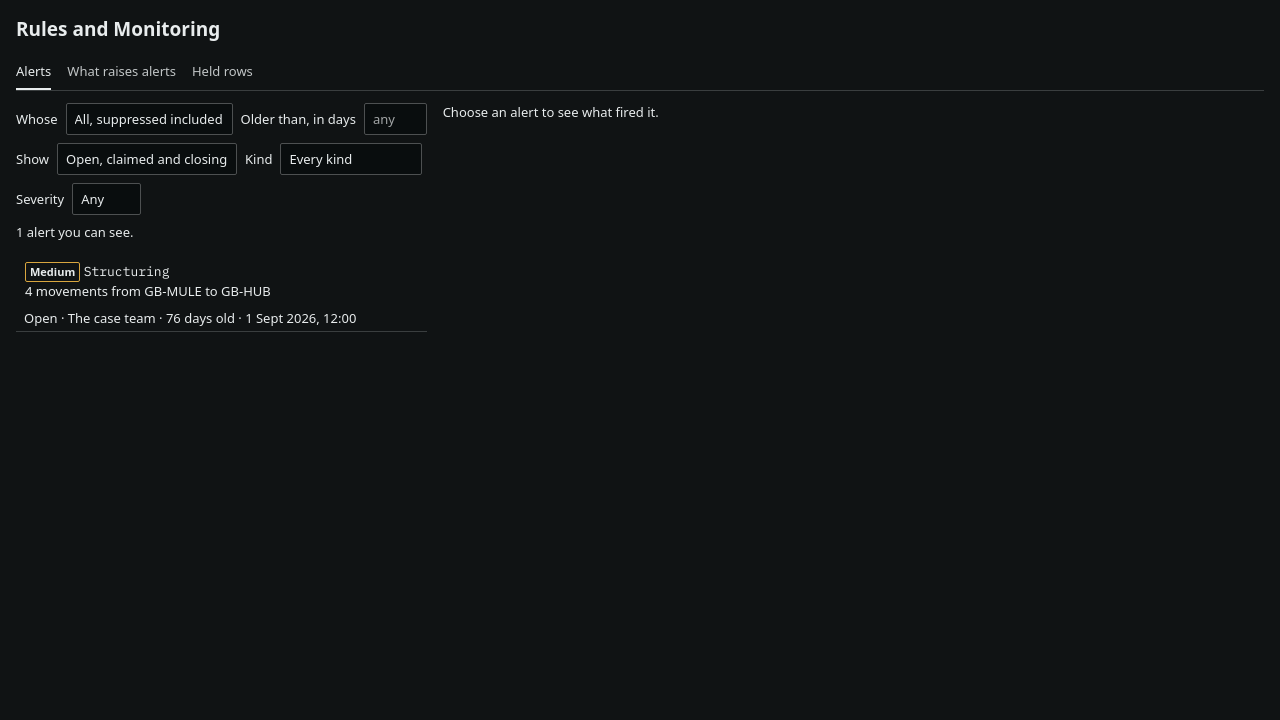
the Alerts place › says in words when someone else got to the alert first
The width and height of the screenshot is (1280, 720).
Click the button named "Open alert" at (221, 281), box [16,253,427,309]
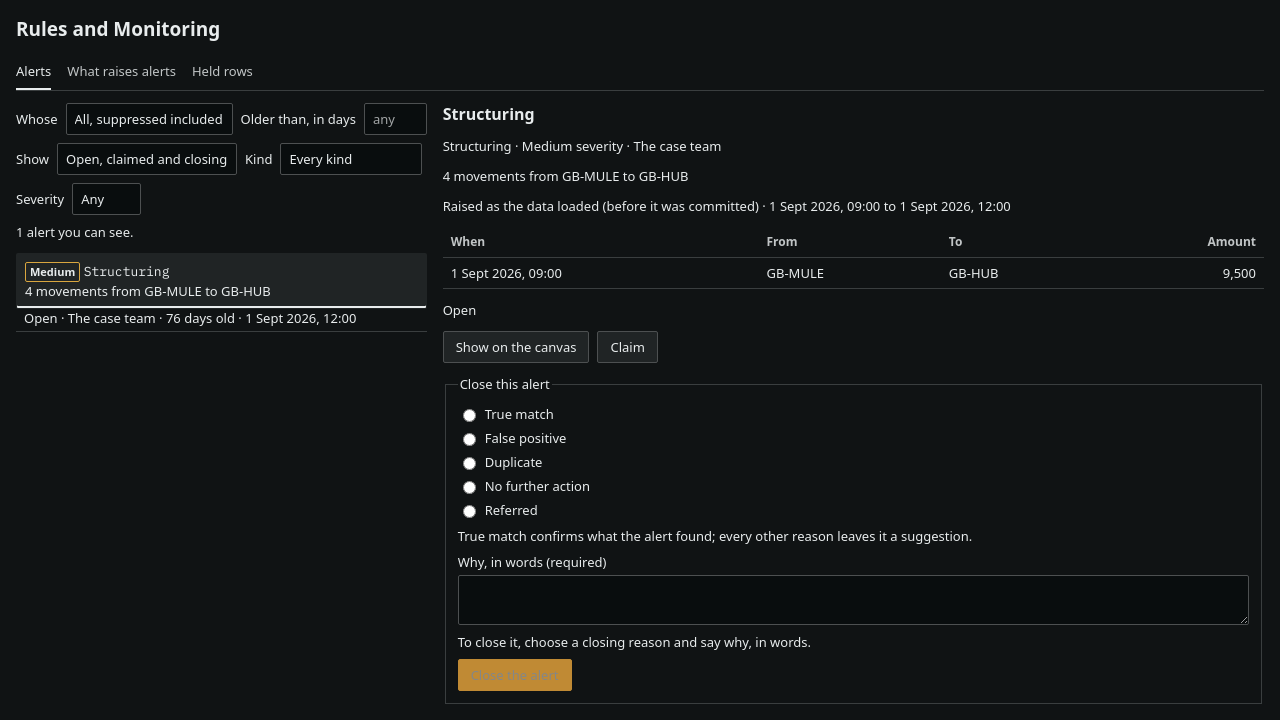
Click the button "Claim" at (628, 347), box [598,331,658,363]
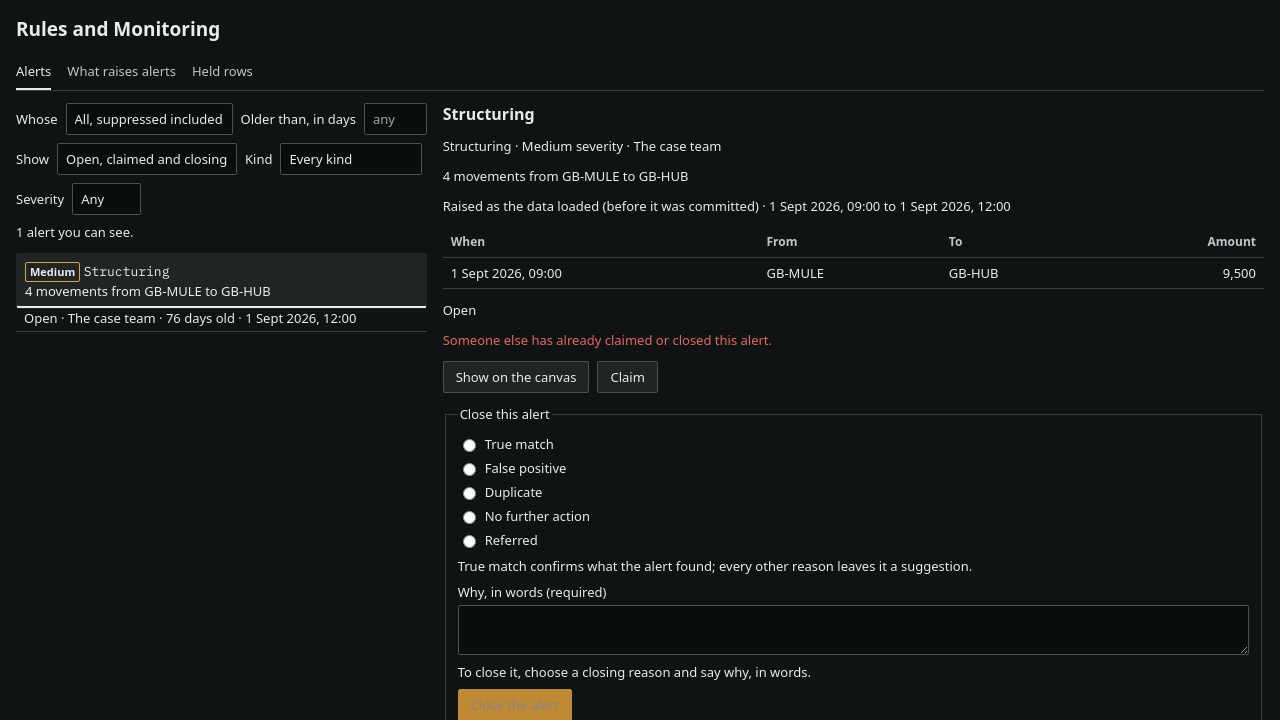
Now the text "Someone else has already claimed or closed this alert." is shown, box [443,331,772,349]
